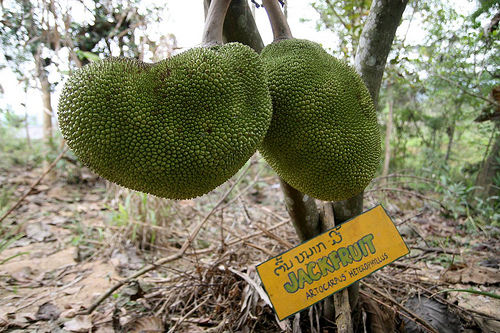jackfruit: (55, 43, 273, 204), (259, 36, 380, 202)
